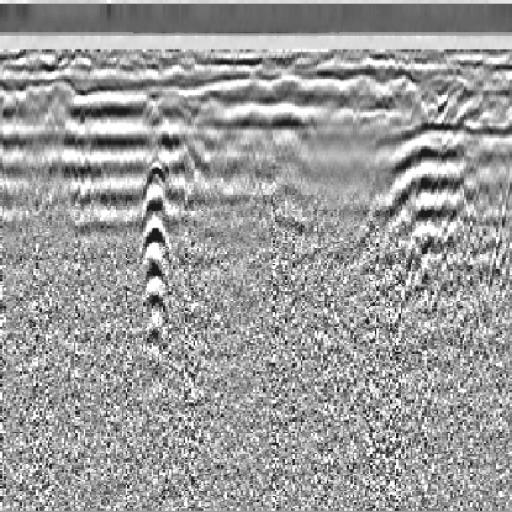non-metallic: (121, 155, 194, 361)
